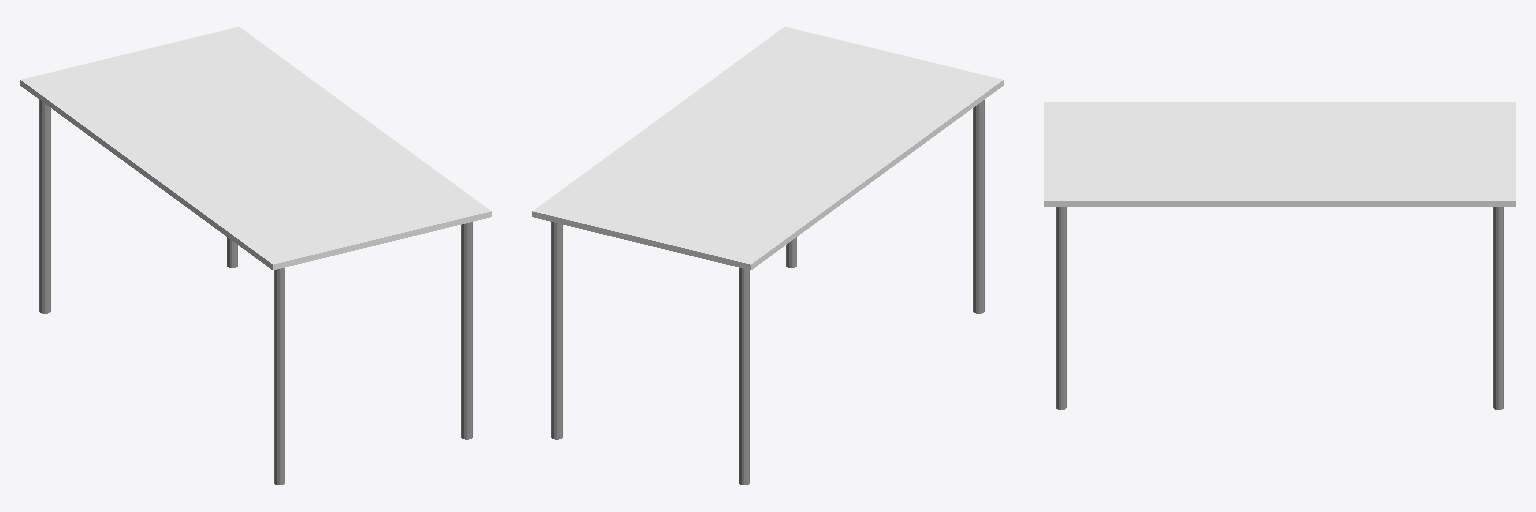
The robot description file, URDF, robot "room83b1-askul-1400-desk-3_static":
<?xml version="1.0"?>
<robot name="room83b1-askul-1400-desk-3_static"
       xmlns:xi="http://www.w3.org/2001/XInclude"
       >
  <gazebo>
    <static>true</static>
  </gazebo>
  <link name="nil_link">
    <visual>
      <origin xyz="0 0 0" rpy="0 -0 0"/>
      <geometry>
        <mesh filename="model://room83b1-askul-1400-desk-3/meshes/nil_link_mesh.dae" scale="1 1 1" />
      </geometry>
    </visual>
    <collision>
      <origin xyz="0 0 0" rpy="0 -0 0"/>
      <geometry>
        <mesh filename="model://room83b1-askul-1400-desk-3/meshes/nil_link_mesh.dae" scale="1 1 1" />
      </geometry>
    </collision>
    <inertial>
      <mass value="0.001" />
      <origin xyz="0 0 0" rpy="0 -0 0"/>
      <inertia ixx="1e-03" ixy="0" ixz="0" iyy="1e-03" iyz="0" izz="1e-03"/>
    </inertial>
  </link>
  <gazebo reference="nil_link">
    <mu1>0.9</mu1>
    <mu2>0.9</mu2>
  </gazebo>
</robot>

--- Facts derived from the render (not from the file) ---
Views: 3 orthographic renders of the robot side by side, from view 1: azimuth 30°, elevation 25°; view 2: azimuth 150°, elevation 25°; view 3: azimuth 270°, elevation 25°.
Model room83b1-askul-1400-desk-3_static with 1 links and 0 joints (none), rooted at nil_link, posed every joint at zero.
Visible links, largest first — view 1: nil_link; view 2: nil_link; view 3: nil_link.
Boxes of the visible links, x1,y1,x2,y2 form: nil_link: [20, 27, 491, 484]; nil_link: [532, 27, 1003, 484]; nil_link: [1044, 102, 1515, 409].
Bounding box of the posed robot: 0.7 × 1.4 × 0.7 m (x, y, z).
1 mesh visuals loaded from 1 distinct referenced files (1 Collada DAE).